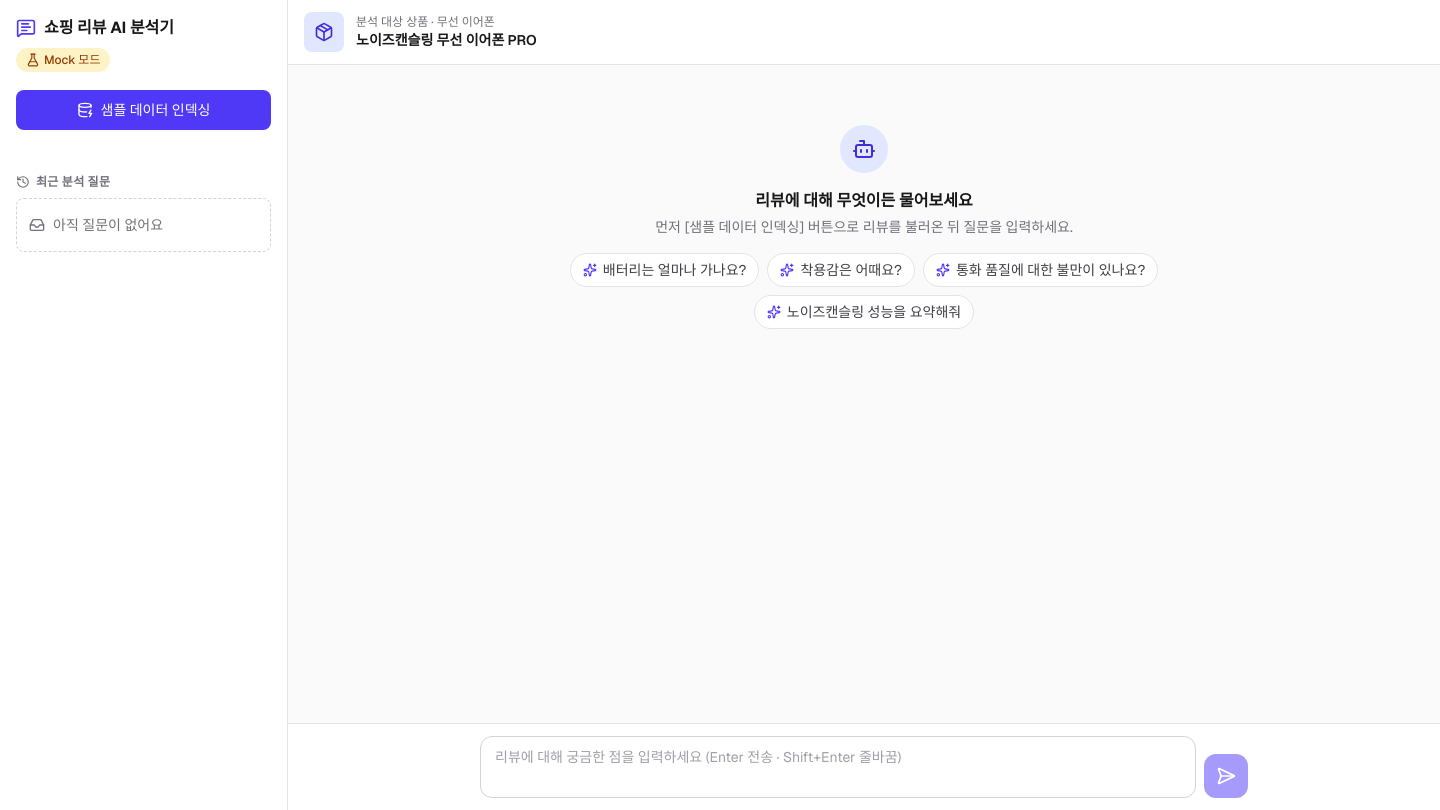
Test: 샘플 데이터 인덱싱 › 실패하면 오류 메시지를 표시하고 버튼이 다시 활성화된다
Expected: the text "Mock 모드" is shown, [16,48,110,72]
Click the button "샘플 데이터 인덱싱" at point(144, 110), box [16,90,271,130]
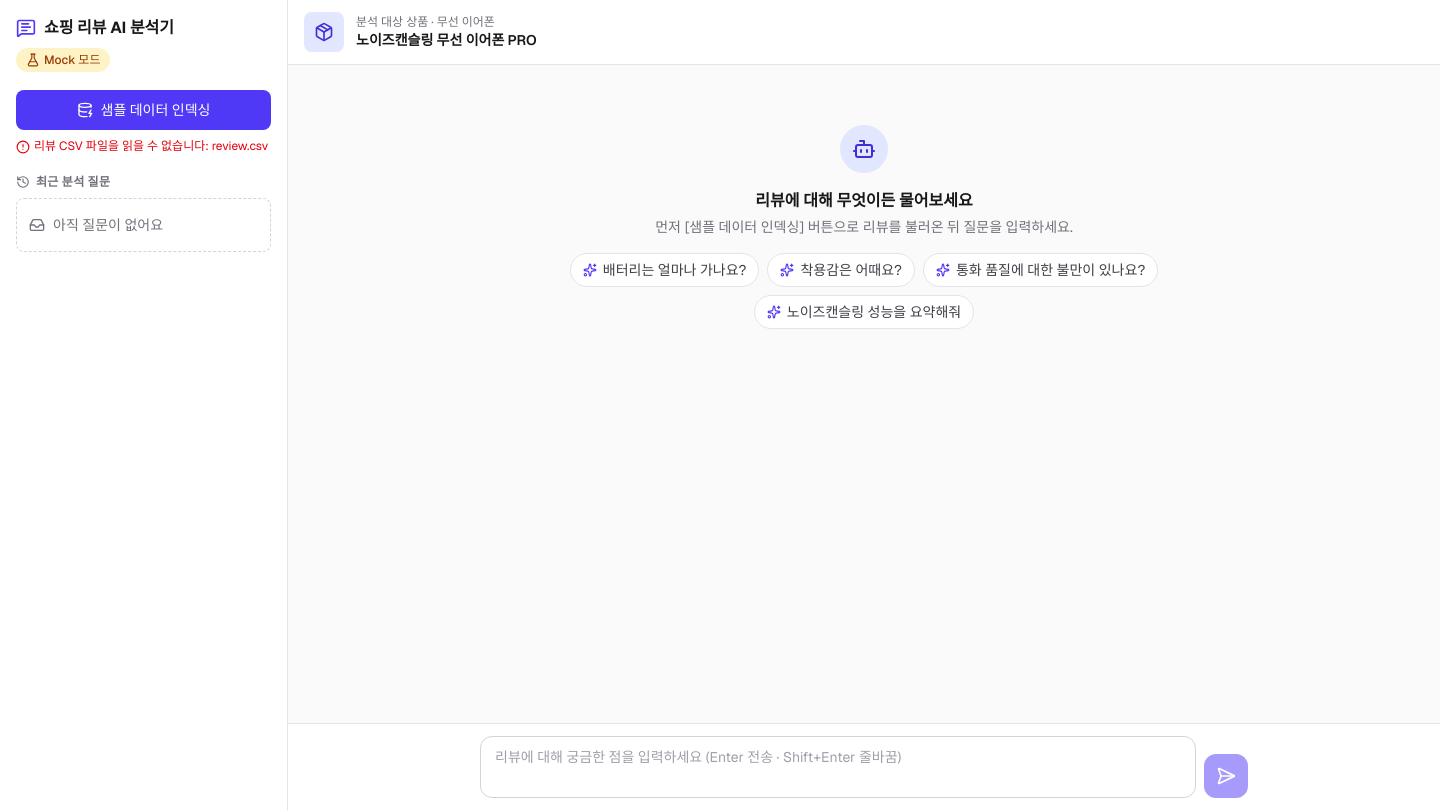
Expected: the text "리뷰 CSV 파일을 읽을 수 없습니다: review.csv" is shown, [16,138,268,154]
